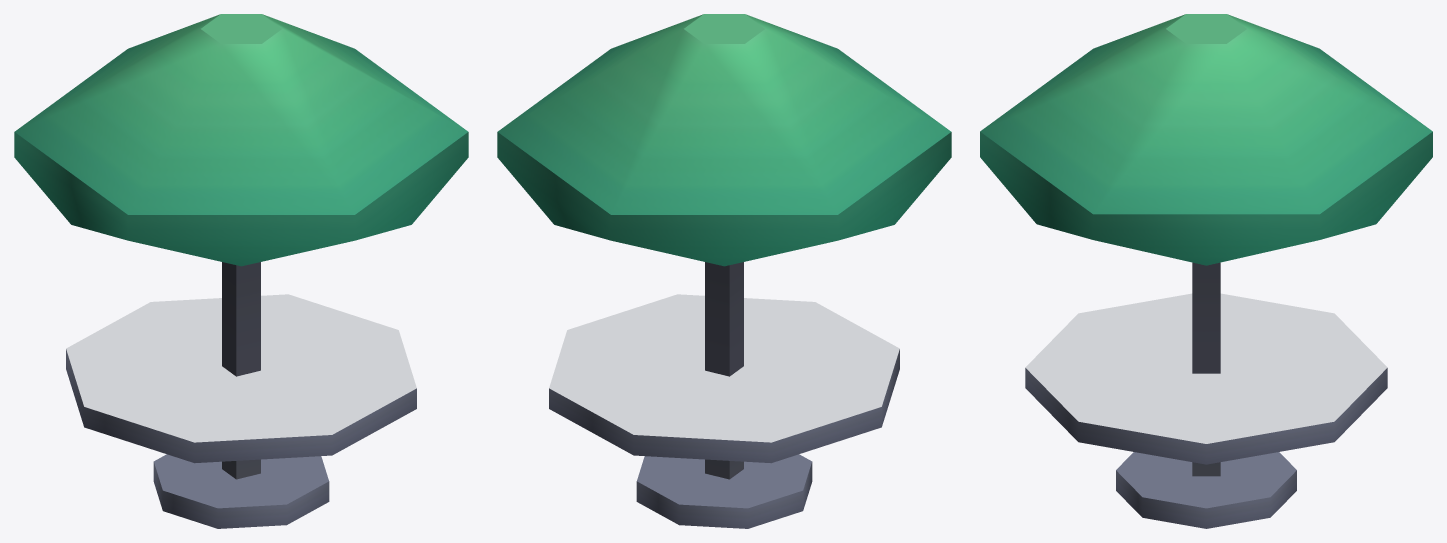
File: k-city-kit-commercial-detail-parasol-b.glb
3 views of the same model, side by side, from view 1: azimuth 30°, elevation 25°; view 2: azimuth 150°, elevation 25°; view 3: azimuth 270°, elevation 25° (orthographic).
Visible parts, largest first — view 1: detail-parasol-b; view 2: detail-parasol-b; view 3: detail-parasol-b.
Boxes of the visible parts, box(x1,y1,x2,y2) form: detail-parasol-b: box(14, 14, 468, 528); detail-parasol-b: box(497, 14, 951, 528); detail-parasol-b: box(980, 14, 1432, 528).
Size of the model in its own units: 0.3464 by 0.45 by 0.4.
Materials: 1 (1 with a texture image).
